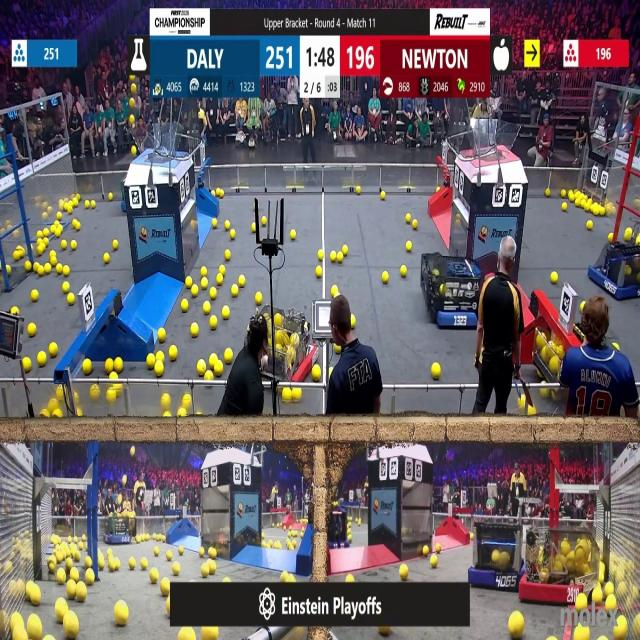ball_airborne: (116, 496, 123, 504), (131, 99, 136, 108), (133, 146, 137, 156), (132, 86, 137, 94), (131, 115, 135, 123)
ball_ground: (114, 600, 127, 625), (31, 587, 41, 606), (76, 584, 86, 602), (162, 579, 172, 597), (312, 364, 322, 380), (162, 393, 172, 408), (23, 356, 32, 372), (431, 362, 440, 378), (82, 358, 91, 374), (87, 569, 96, 584), (399, 564, 407, 580), (214, 361, 223, 375), (37, 352, 46, 366), (48, 344, 57, 358), (198, 360, 207, 374), (114, 357, 122, 372), (224, 349, 232, 364), (292, 388, 301, 401), (154, 362, 163, 375), (149, 569, 158, 582), (170, 346, 178, 360), (202, 563, 210, 577), (58, 568, 66, 582), (28, 322, 36, 336), (210, 316, 218, 329), (159, 328, 167, 341), (147, 354, 154, 368), (190, 324, 198, 336), (221, 307, 229, 319), (204, 302, 212, 314), (31, 288, 39, 300), (62, 281, 70, 293), (70, 568, 78, 580), (430, 555, 437, 568), (209, 561, 216, 574), (286, 573, 295, 583), (605, 584, 613, 595), (209, 548, 217, 559), (210, 287, 217, 299), (68, 292, 75, 304), (141, 558, 148, 570), (173, 562, 180, 574), (98, 557, 105, 569), (177, 409, 186, 418), (86, 557, 94, 567), (255, 291, 261, 304), (551, 273, 558, 284), (527, 407, 534, 418), (130, 558, 137, 569), (233, 284, 239, 296), (191, 284, 197, 296), (185, 276, 191, 288), (346, 574, 354, 583), (331, 285, 337, 297), (70, 294, 76, 306), (400, 266, 406, 278), (350, 316, 356, 328), (50, 252, 56, 264), (216, 275, 223, 285), (63, 267, 70, 277), (316, 268, 323, 278), (406, 242, 413, 252), (104, 252, 110, 263), (202, 278, 208, 289), (181, 301, 187, 312), (382, 273, 388, 284), (343, 245, 349, 256), (224, 249, 230, 260), (44, 266, 51, 275), (158, 352, 165, 361), (588, 220, 594, 230), (112, 240, 118, 250), (338, 252, 344, 262), (239, 276, 245, 286), (231, 231, 237, 241), (26, 263, 32, 273), (167, 552, 173, 562), (200, 548, 206, 558), (330, 251, 336, 261), (57, 266, 63, 276), (55, 411, 63, 418), (11, 307, 18, 315), (202, 268, 208, 277), (422, 545, 428, 554), (290, 231, 295, 241), (219, 266, 224, 276), (568, 190, 573, 200), (561, 188, 567, 196), (562, 204, 568, 212), (336, 346, 342, 354), (42, 410, 48, 418), (71, 241, 76, 250), (435, 543, 440, 552), (223, 576, 229, 583), (544, 187, 549, 195), (224, 220, 229, 228), (381, 191, 386, 199), (608, 234, 612, 243), (165, 412, 171, 418), (84, 202, 90, 208), (218, 189, 223, 196), (252, 223, 256, 231), (93, 201, 97, 209), (152, 533, 156, 540), (231, 231, 235, 237), (474, 538, 476, 542)
goal: (465, 122, 520, 160), (132, 132, 189, 159)
robot_blue: (418, 249, 486, 332), (472, 522, 522, 588), (595, 243, 640, 302), (101, 510, 135, 543)
robot_red: (523, 523, 596, 603), (254, 308, 316, 383)
